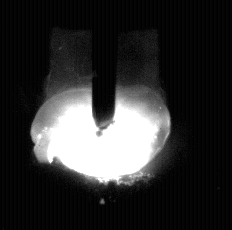arame: (92, 0, 117, 135)
poca: (30, 0, 170, 230)
